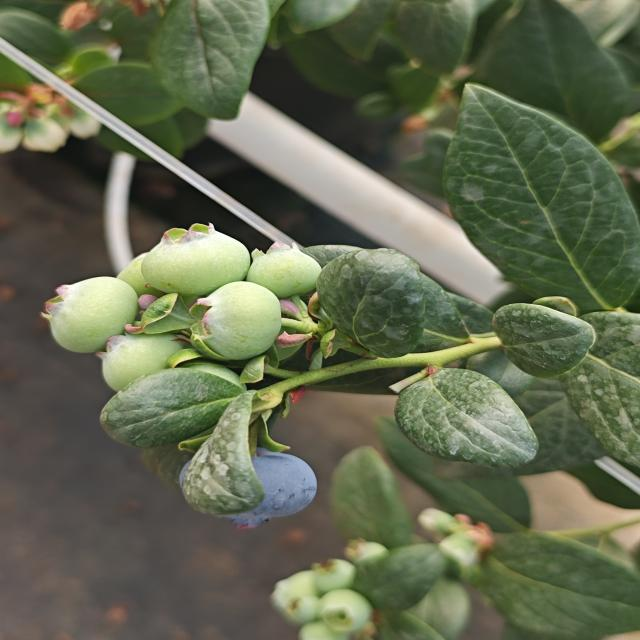ripe: (175, 446, 323, 534)
